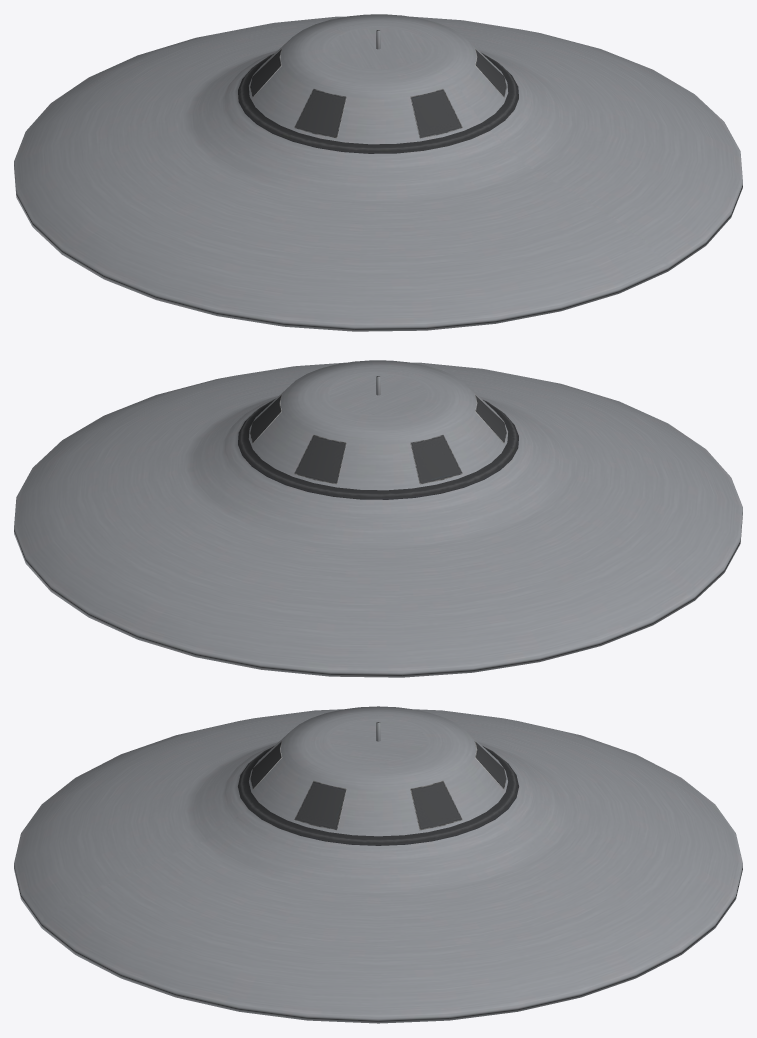
The model's file is bob_lazar_ufo.glb.
3 views of the same model, one above another, from view 1: azimuth 30°, elevation 25°; view 2: azimuth 150°, elevation 25°; view 3: azimuth 270°, elevation 25° (orthographic).
Parts seen in each view (by area): view 1: Ufo_low; view 2: Ufo_low; view 3: Ufo_low.
Boxes of the visible parts, x1,y1,x2,y2 form: Ufo_low: (14,14,742,331); Ufo_low: (14,360,742,677); Ufo_low: (14,706,742,1023).
Bounding box in the file's own units: 2 × 0.6619 × 2.
Materials: 1 (1 with a texture image).
